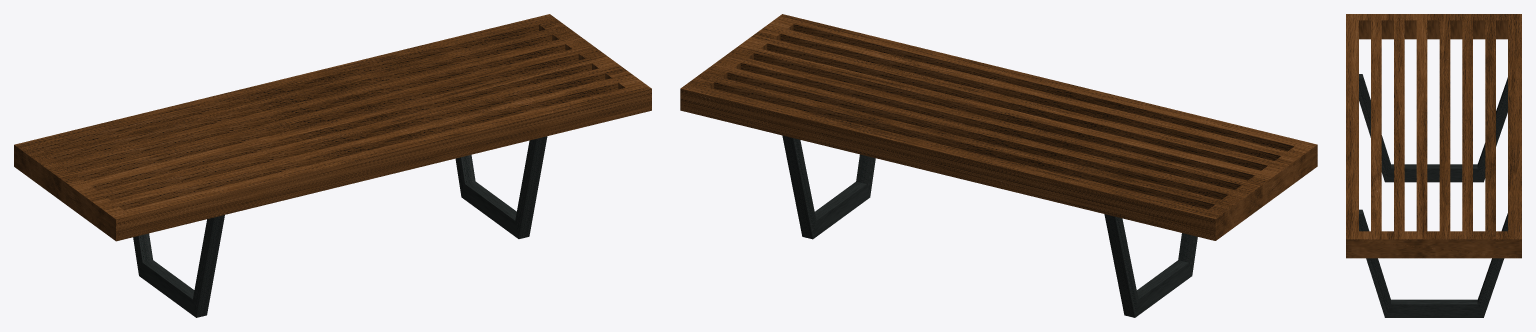
File: banco.glb
The picture shows the model from 3 angles, left to right: view 1: azimuth 30°, elevation 25°; view 2: azimuth 150°, elevation 25°; view 3: azimuth 270°, elevation 25°; orthographic projection. The views are drawn at different scales.
Parts seen in each view (by area): view 1: banco; view 2: banco; view 3: banco.
Part boxes in pixels (x1,y1,x2,y2): banco: [14, 14, 651, 317]; banco: [680, 14, 1317, 317]; banco: [1346, 14, 1521, 317].
Bounding box in the file's own units: 2.33 × 0.5816 × 0.7676.
Materials: 2 (2 with a texture image).
